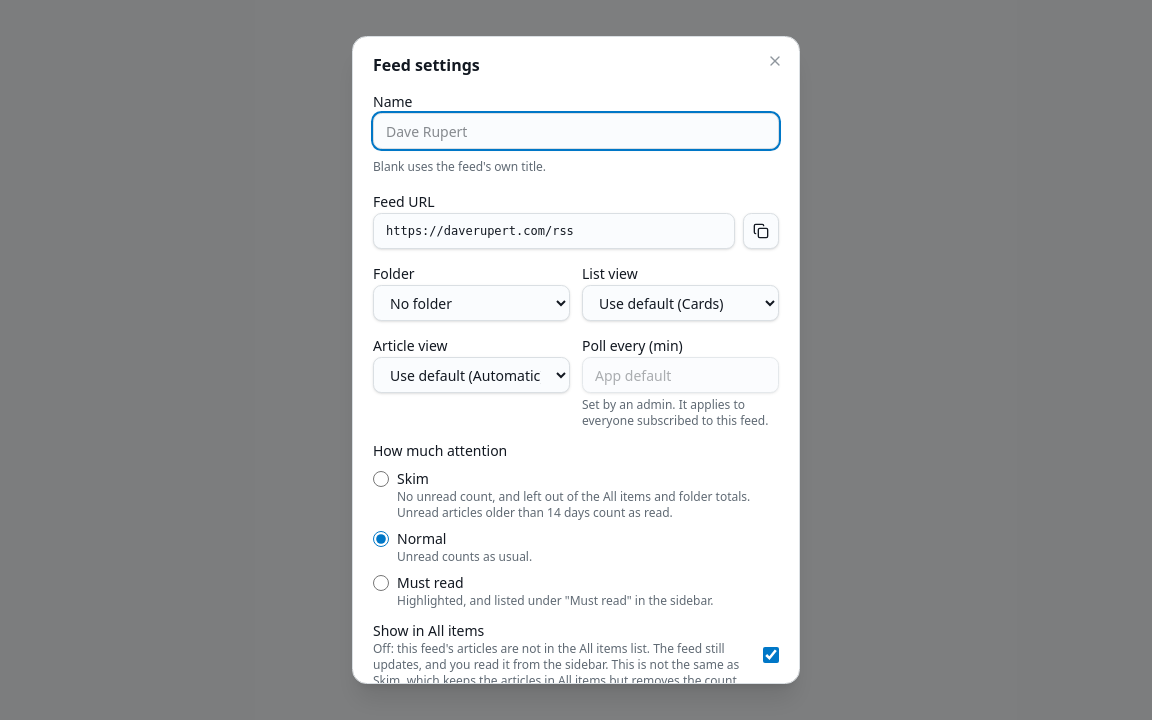
Scenario: a refused URL keeps the dialog open with the error, and saves nothing else
This screenshot has width=1152, height=720.
Replace the text in the field named "Feed URL" with "https://example.com/gone" at (554, 231), box [373,213,735,249]
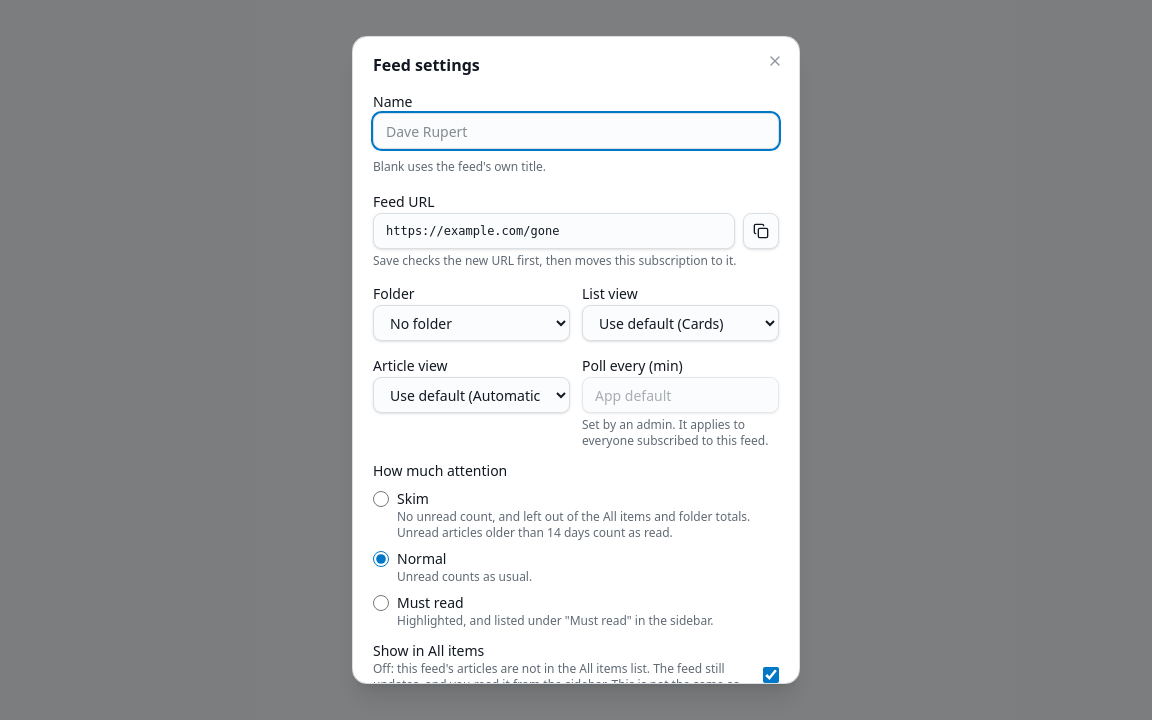
Type "Dave" into the field labelled "Name Blank uses the feed's own title." at (576, 131), box [373,113,779,149]
(page scrolled)
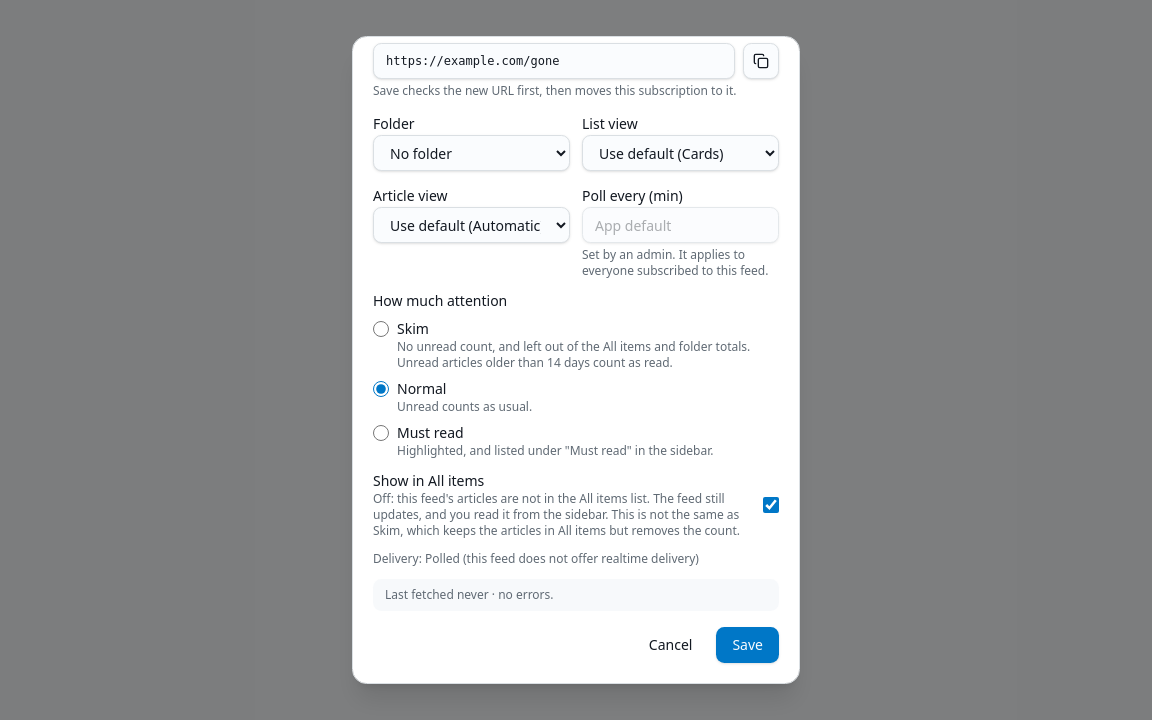
Click the button "Save" at (748, 645), box [716,627,779,663]
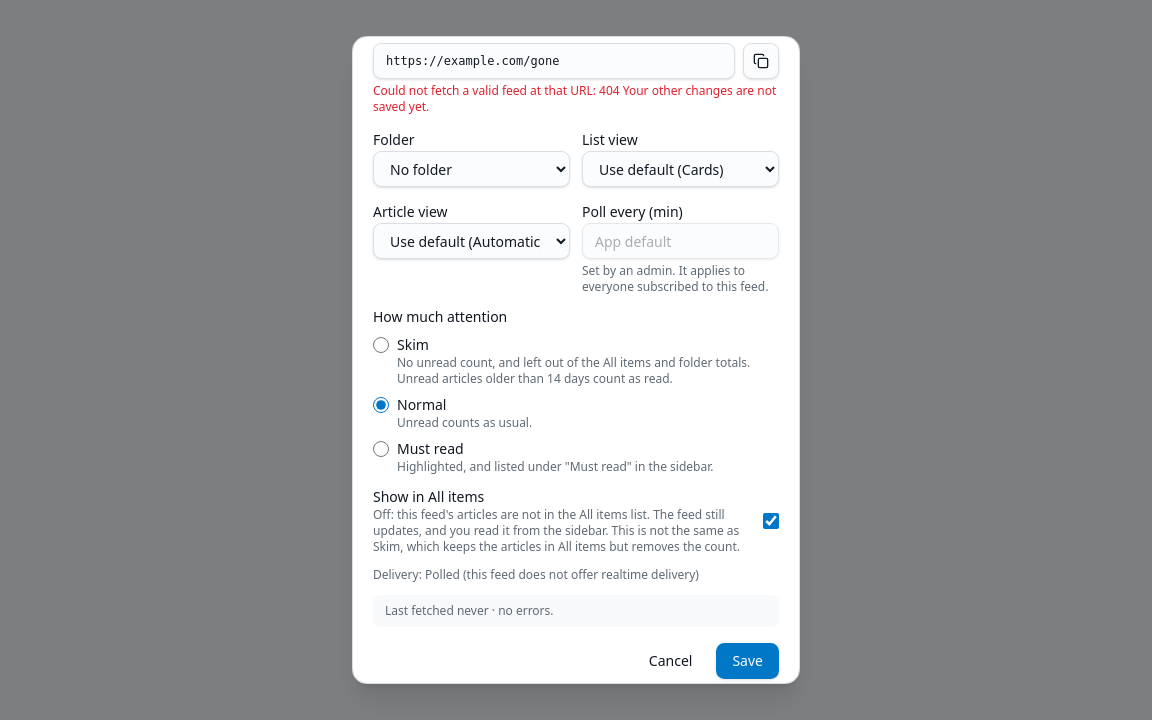
expect the message shows "Could not fetch a valid feed at that URL: 404": met, box [373,82,620,99]
expect the message shows "Your other changes are not saved yet.": met, box [373,82,776,115]
